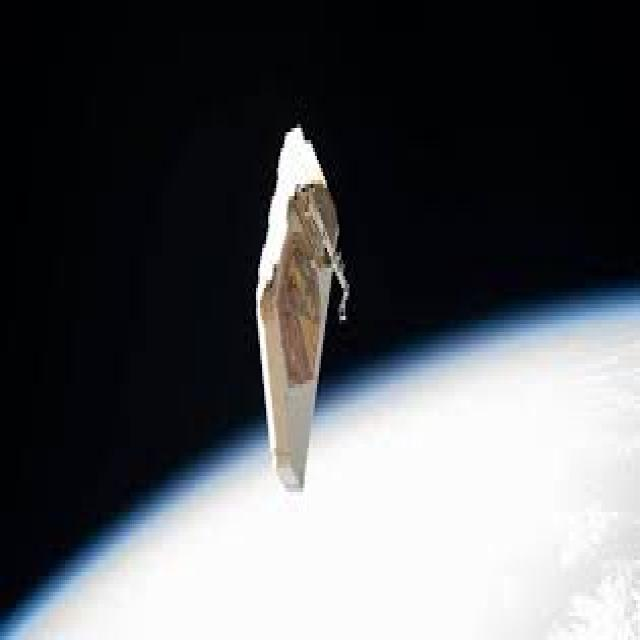large_debris: (252, 118, 346, 488)
